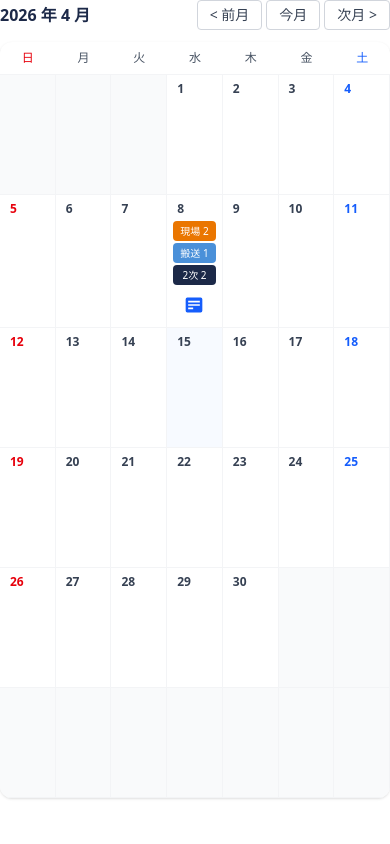
Test: DispatchCalendar › SP 表示: 種別バッヂ（現場 / 搬送 / 2次）と詳細ボタンが描画され、ボタンクリックでモーダルが開く（1 次 + 2 次）
The width and height of the screenshot is (390, 844).
Expected: the element with test id "calendar-cell-sp-summary" shows "現場 2", [173,221,216,285]
Expected: the element with test id "calendar-cell-sp-summary" shows "搬送 1", [173,221,216,285]
Step 1. Click the button with test id "calendar-cell-sp-detail-button" → click(194, 305), box [178,289,210,321]
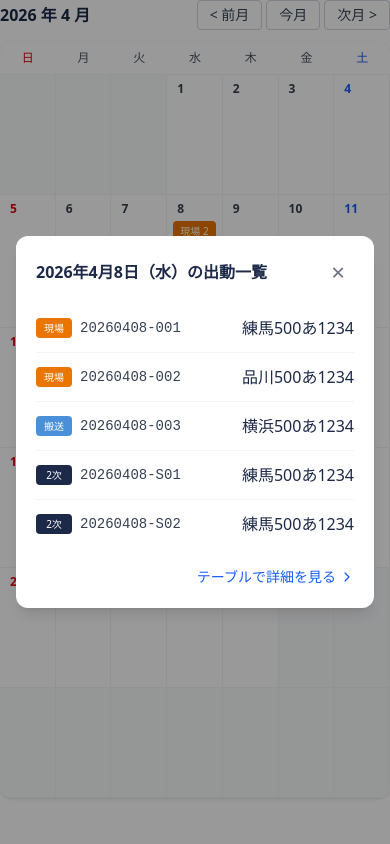
Now the element with test id "calendar-modal" is shown
Now the number of list items with test id "calendar-modal-row" is 5, box [36,304,354,353]; [36,353,354,402]; [36,402,354,451]; [36,451,354,500]; [36,513,354,535]
Now the number of elements with test id "calendar-row-kind-badge" is 5, box [36,318,72,338]; [36,367,72,387]; [36,416,72,436]; [36,465,72,485]; [36,514,72,534]
